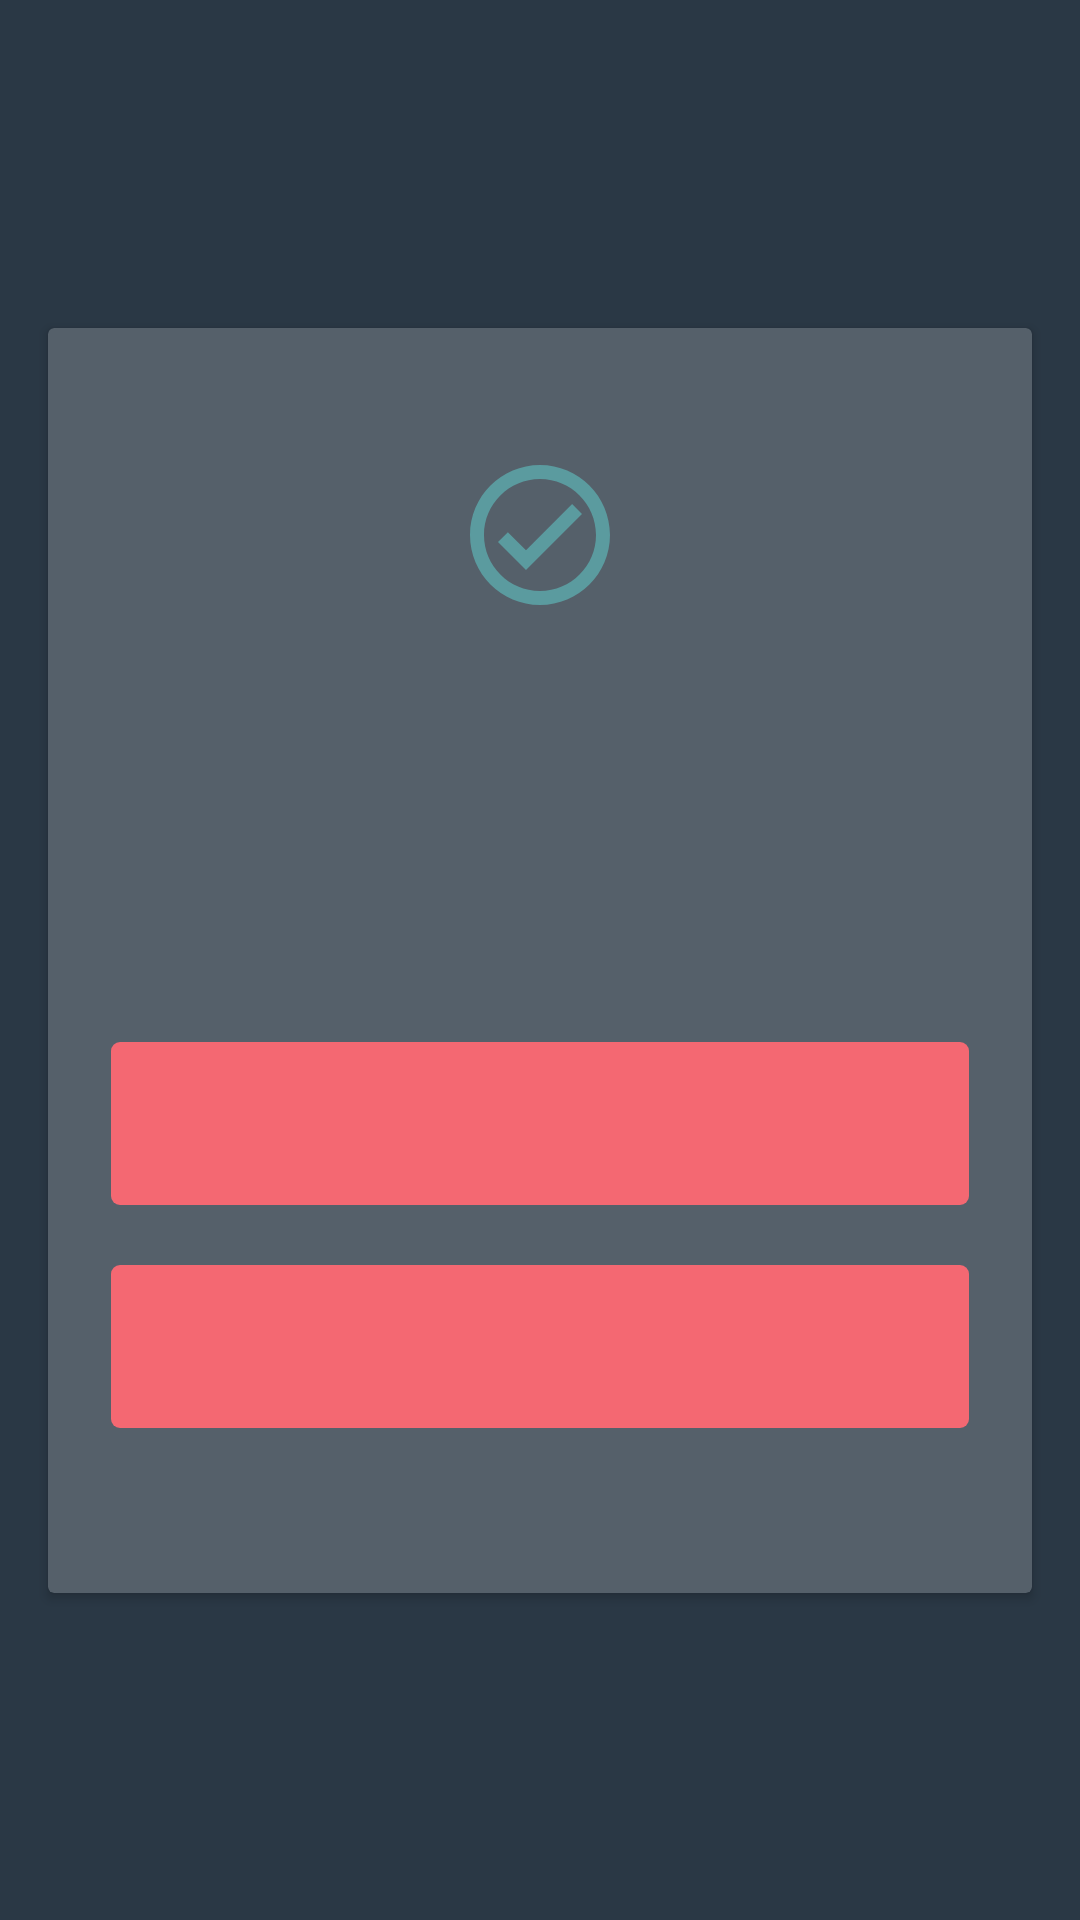

Icons on this 1080 × 1920 Android screen, each with the point to tap as (x=x, y=y):
success: (x=540, y=535)
